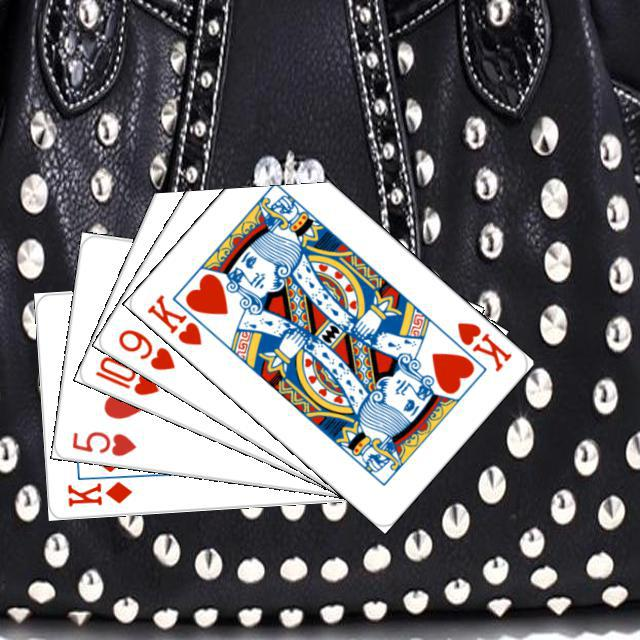10h: (90, 351, 161, 398)
5h: (67, 426, 138, 458)
9h: (113, 324, 177, 373)
Kd: (62, 477, 134, 508)
Kh: (142, 289, 219, 348), (452, 316, 514, 374)
